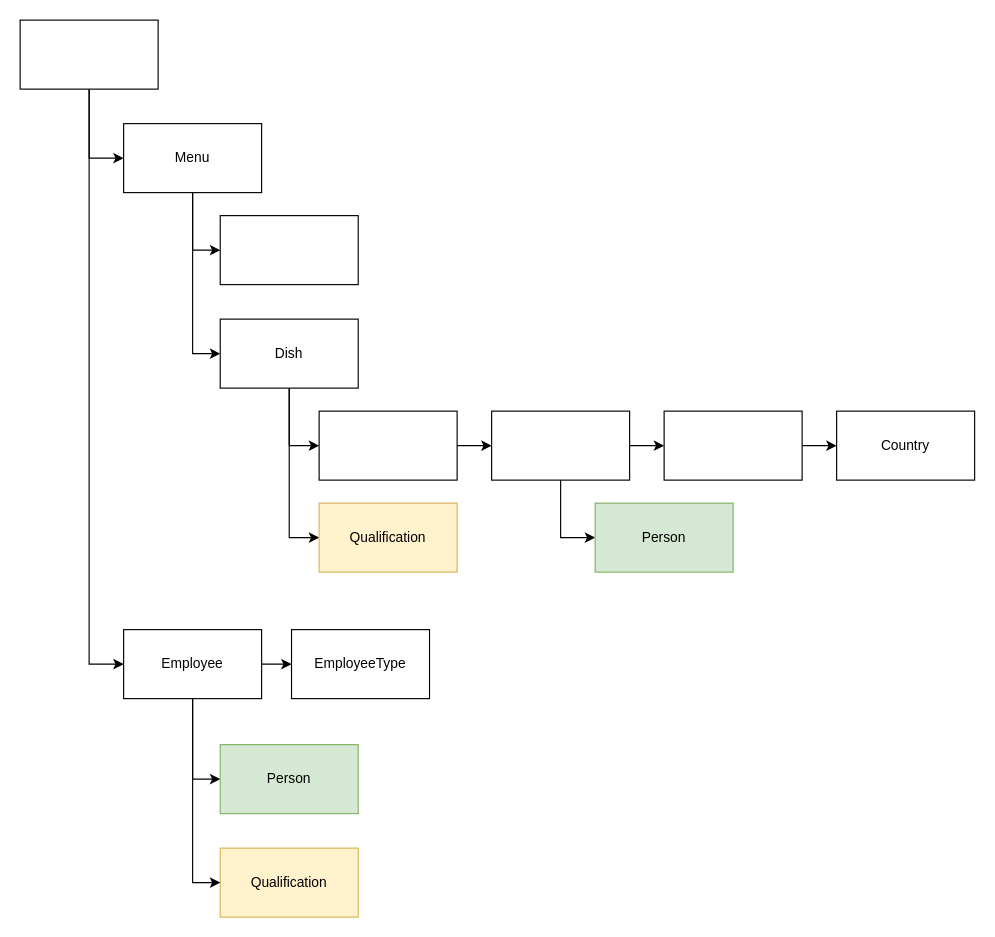
Some shapes in this 995 by 937 pixel diagram are drawn without their labels. Here are the shapes that lost their labels. From the top down, the centre of each, then its label:
At (x=88, y=54): "Restaurant".
At (x=288, y=249): "Category".
At (x=387, y=445): "Ingredient".
At (x=560, y=445): "Manufacturer".
At (x=732, y=445): "City".
